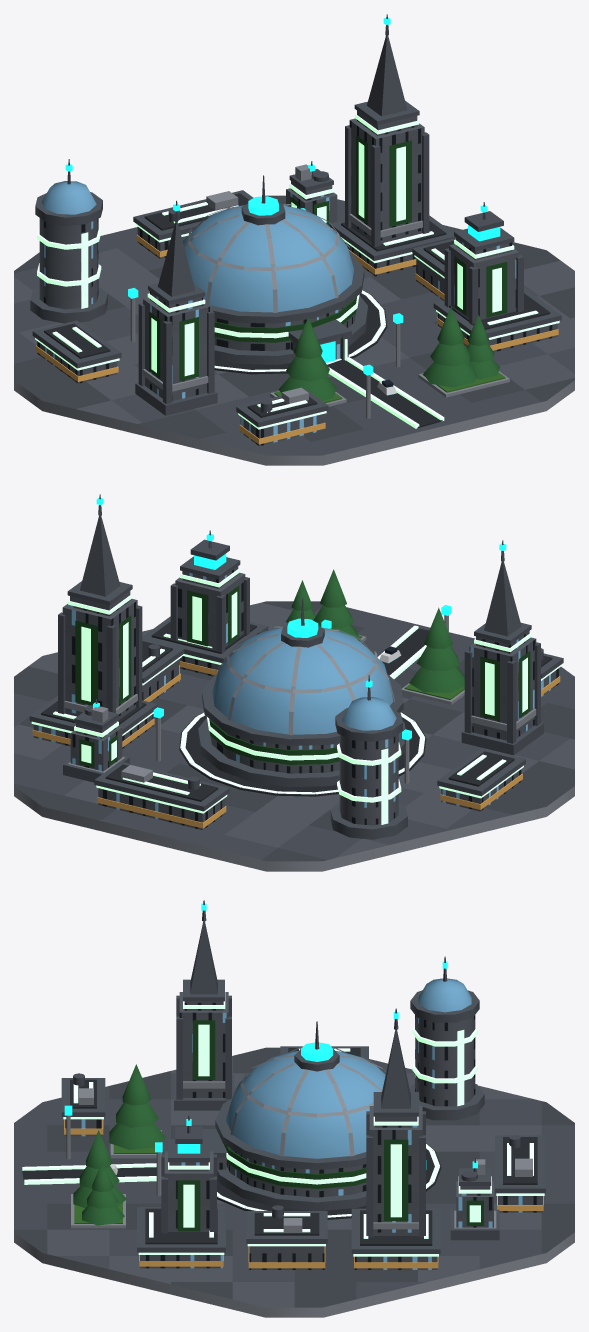
The model's file is district_scifi_b_green.glb.
3 renders of one model, top to bottom at view 1: azimuth 30°, elevation 25°; view 2: azimuth 150°, elevation 25°; view 3: azimuth 270°, elevation 25°, orthographic.
Parts seen in each view (by area): view 1: district_scifi_b_green; view 2: district_scifi_b_green; view 3: district_scifi_b_green.
Part boxes in pixels (x1,y1,x2,y2): district_scifi_b_green: [14, 14, 574, 465]; district_scifi_b_green: [14, 494, 574, 871]; district_scifi_b_green: [14, 900, 574, 1317].
Bounding box in the file's own units: 1.63 × 0.73 × 1.49.
3 materials, 1 textured.
